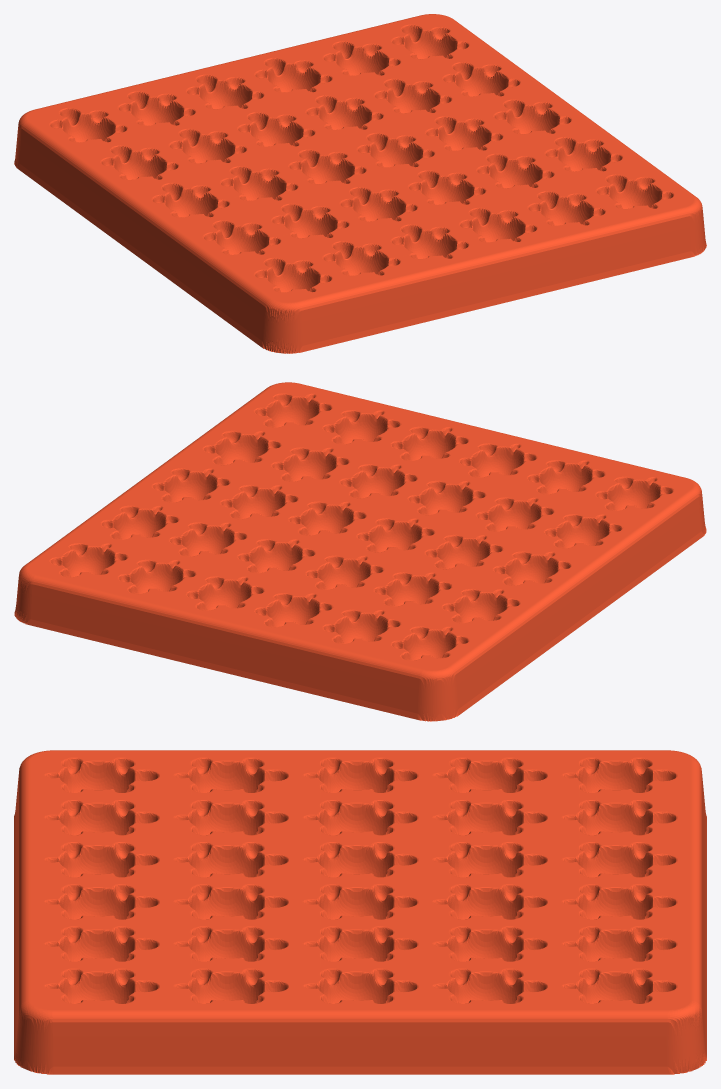
Rendered from mold.glb.
The picture shows the model from 3 angles, top to bottom: view 1: azimuth 30°, elevation 25°; view 2: azimuth 150°, elevation 25°; view 3: azimuth 270°, elevation 25°; orthographic projection. The views are drawn at different scales.
Parts seen in each view (by area): view 1: geometry_0; view 2: geometry_0; view 3: geometry_0.
Boxes of the visible parts, bbox=[...] form: geometry_0: bbox=[14, 14, 706, 353]; geometry_0: bbox=[14, 382, 706, 721]; geometry_0: bbox=[14, 750, 706, 1074].
Size of the model in its own units: 0.1468 by 0.0145 by 0.1578.
